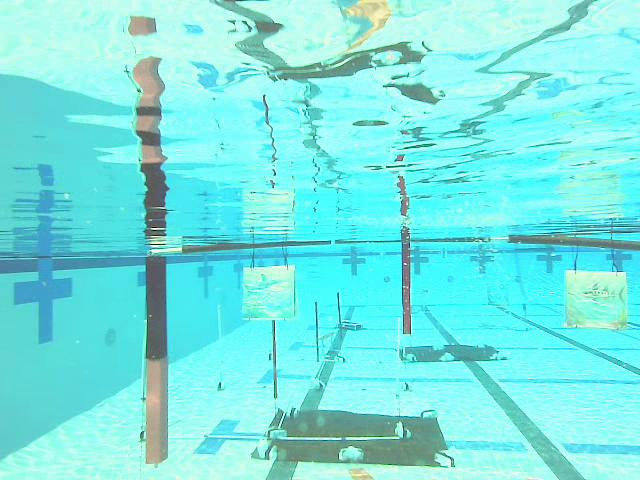left_gate_poster: (141, 251, 173, 472)
shark: (238, 263, 299, 323)
swordfish: (563, 269, 629, 331)
